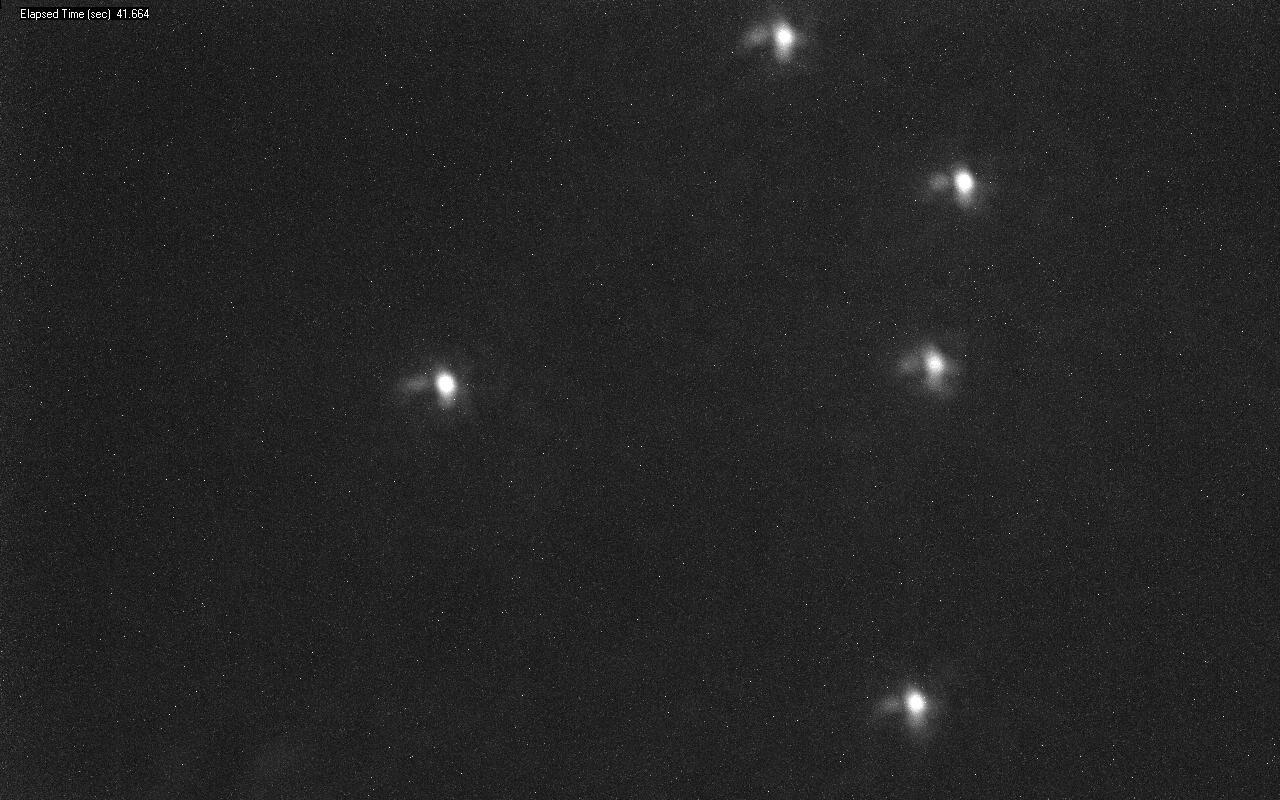Bead: (907, 345, 953, 387), (930, 165, 975, 206), (767, 23, 797, 58), (900, 687, 928, 721), (435, 370, 456, 395)
